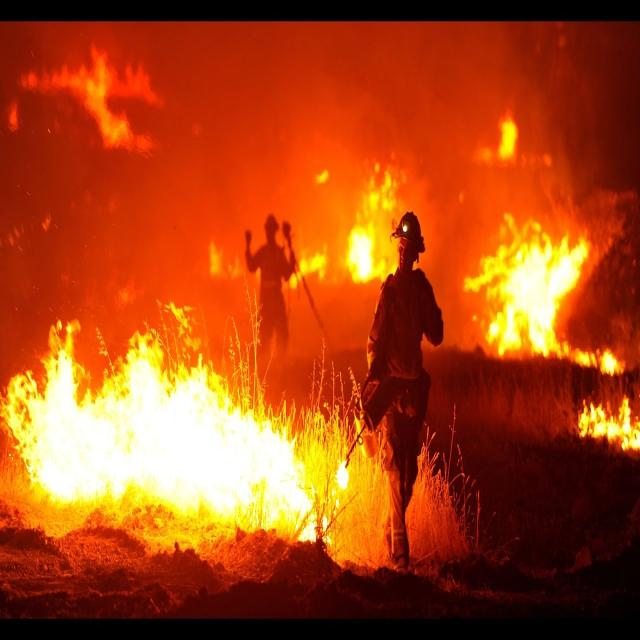Fire: (12, 324, 332, 560), (478, 212, 628, 374), (318, 165, 412, 289)
